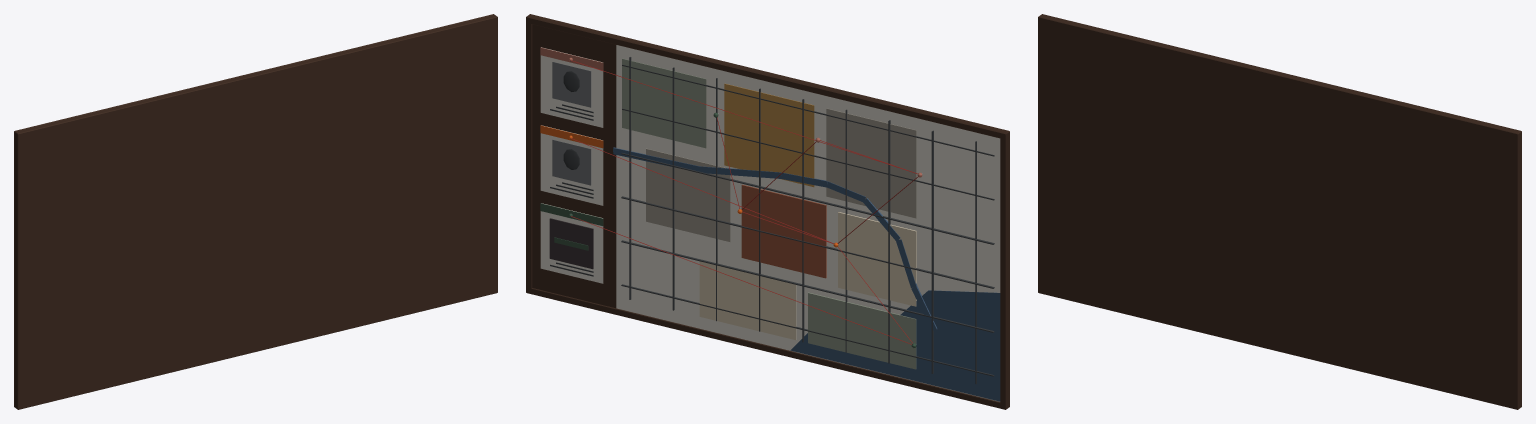
Rendered from prop_sh_board_map.glb.
The picture shows the model from 3 angles, left to right: view 1: azimuth 30°, elevation 25°; view 2: azimuth 150°, elevation 25°; view 3: azimuth 330°, elevation 25°; orthographic projection.
Visible parts, largest first — view 1: Body; view 2: Body; view 3: Body.
Boxes of the visible parts, x1=… form: Body: x1=14, y1=14, x2=497, y2=409; Body: x1=526, y1=14, x2=1009, y2=409; Body: x1=1038, y1=14, x2=1521, y2=409.
Size of the model in its own units: 4 by 2.2 by 0.1033.
